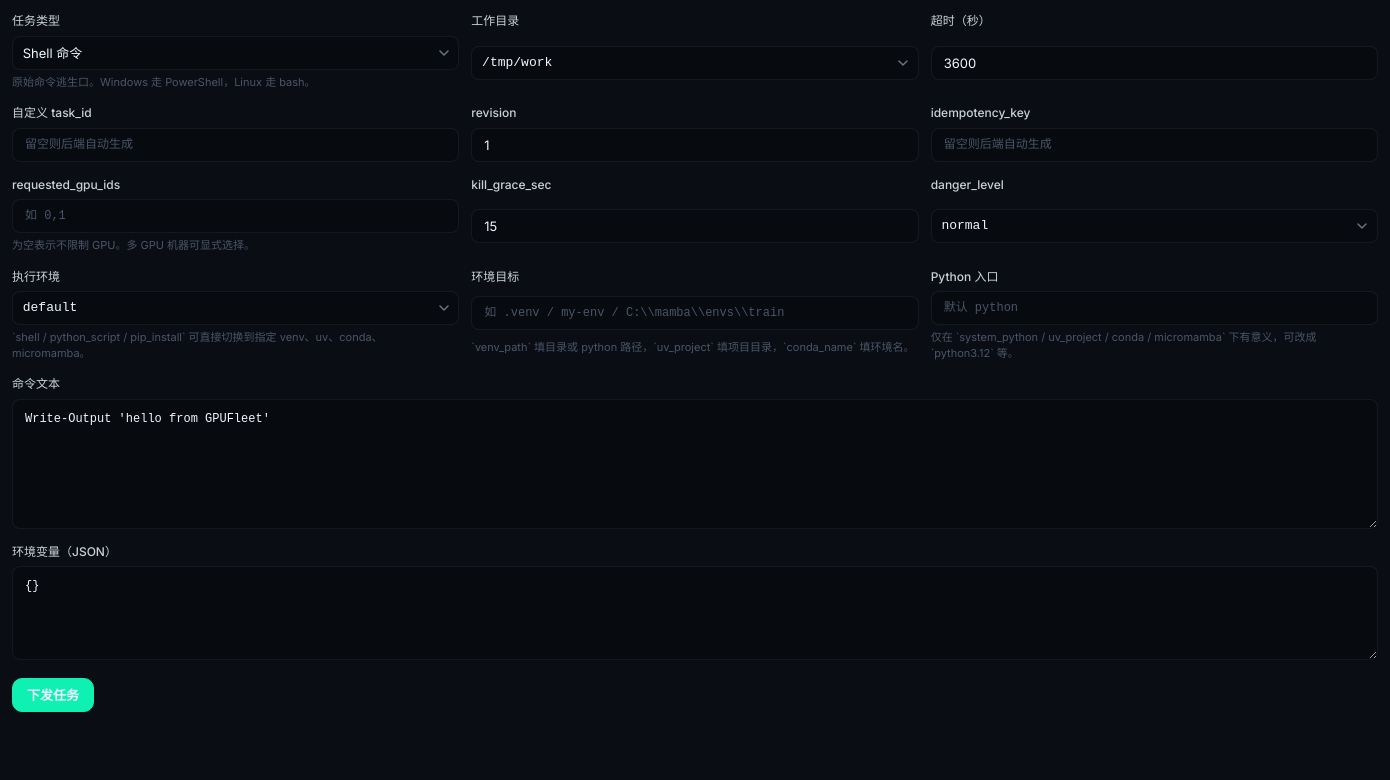
Test: TaskComposer › shows inline GPU id validation error
The image size is (1390, 780).
Type "0,a" into the field with placeholder "如 0,1" at (236, 216), box [12,199,459,233]
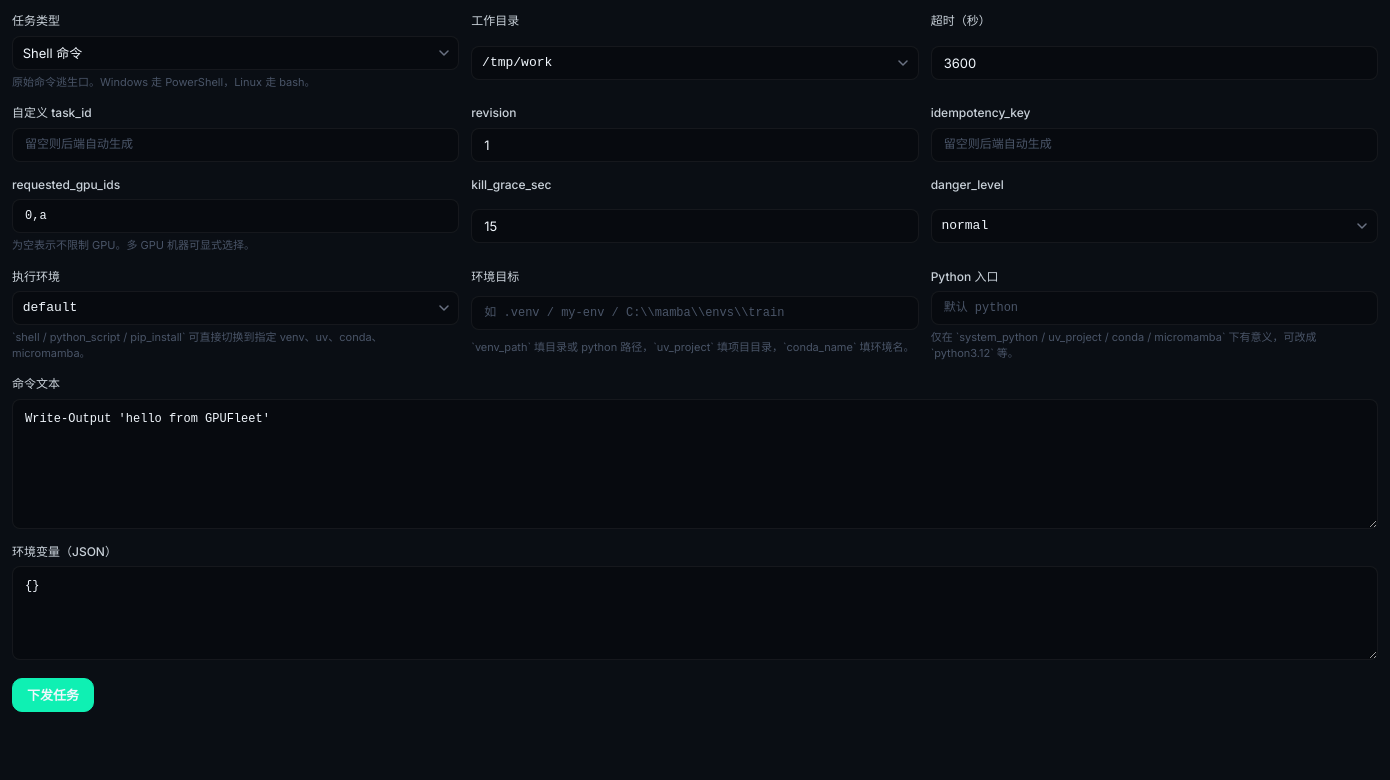
Click the button "下发任务" at (53, 695), box [12,678,94,712]
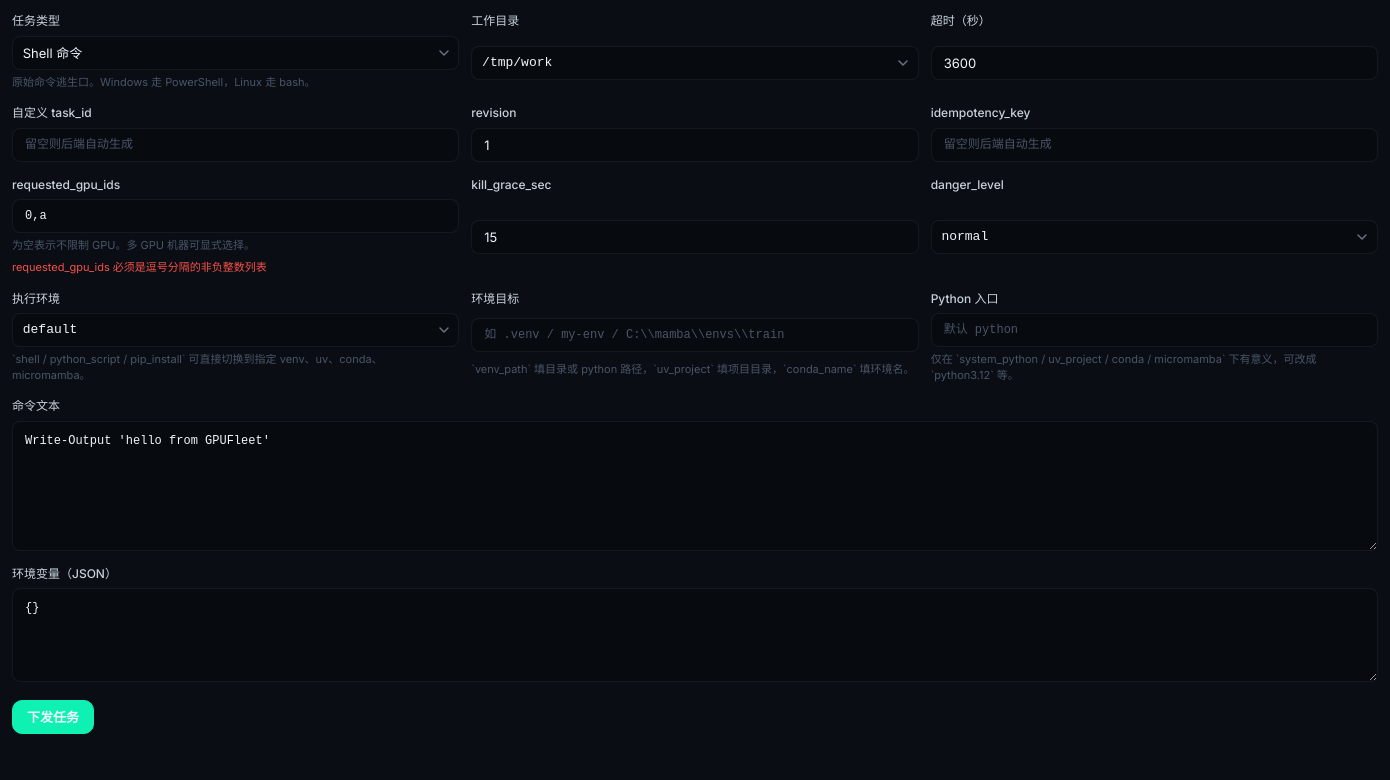
Expected: the text "requested_gpu_ids 必须是逗号分隔的非负整数列表" is shown, [12,260,267,274]
